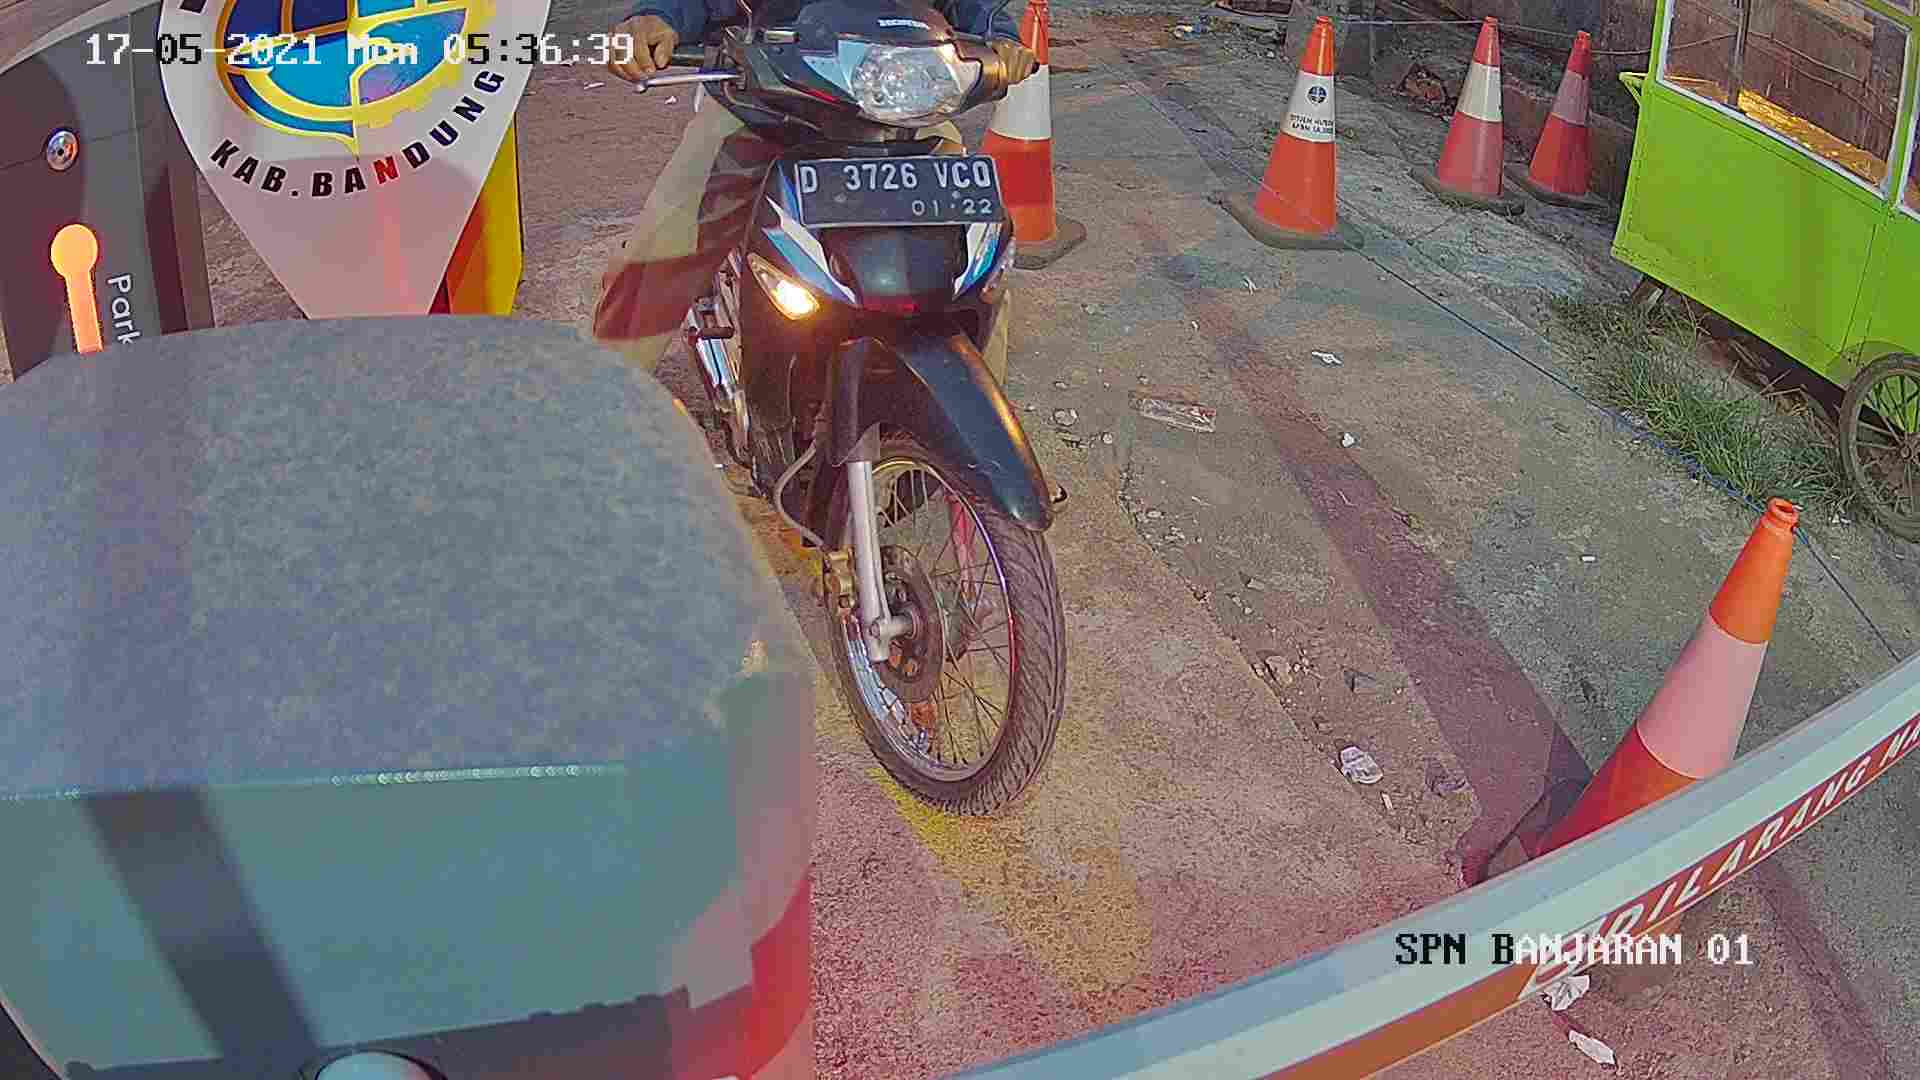motor: (603, 47, 1167, 796)
